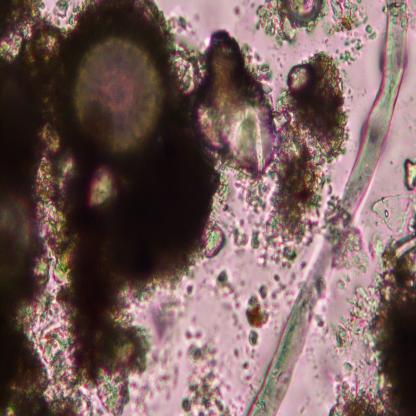Background material: (0, 151, 227, 415), (0, 0, 193, 154), (254, 46, 350, 271), (185, 27, 276, 237), (323, 235, 416, 415), (176, 324, 245, 415), (242, 272, 293, 352), (329, 0, 376, 66), (367, 193, 416, 241), (336, 229, 372, 271), (216, 270, 242, 328), (400, 157, 416, 191), (232, 1, 244, 19)
Diatom: (68, 30, 168, 162), (0, 190, 36, 278), (284, 0, 322, 30)
Microfibre: (246, 1, 408, 415)
